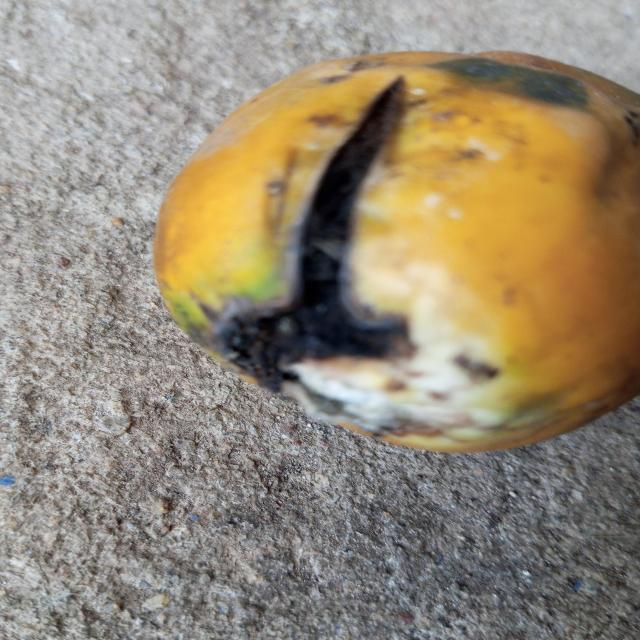damaged: (152, 51, 640, 457)
